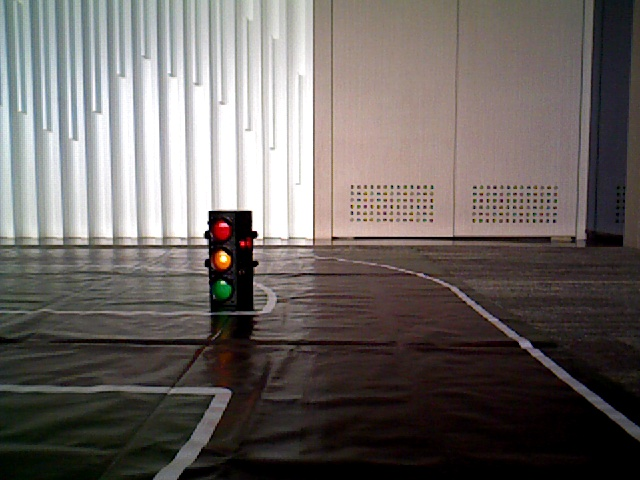yellow: (208, 215, 238, 306)
